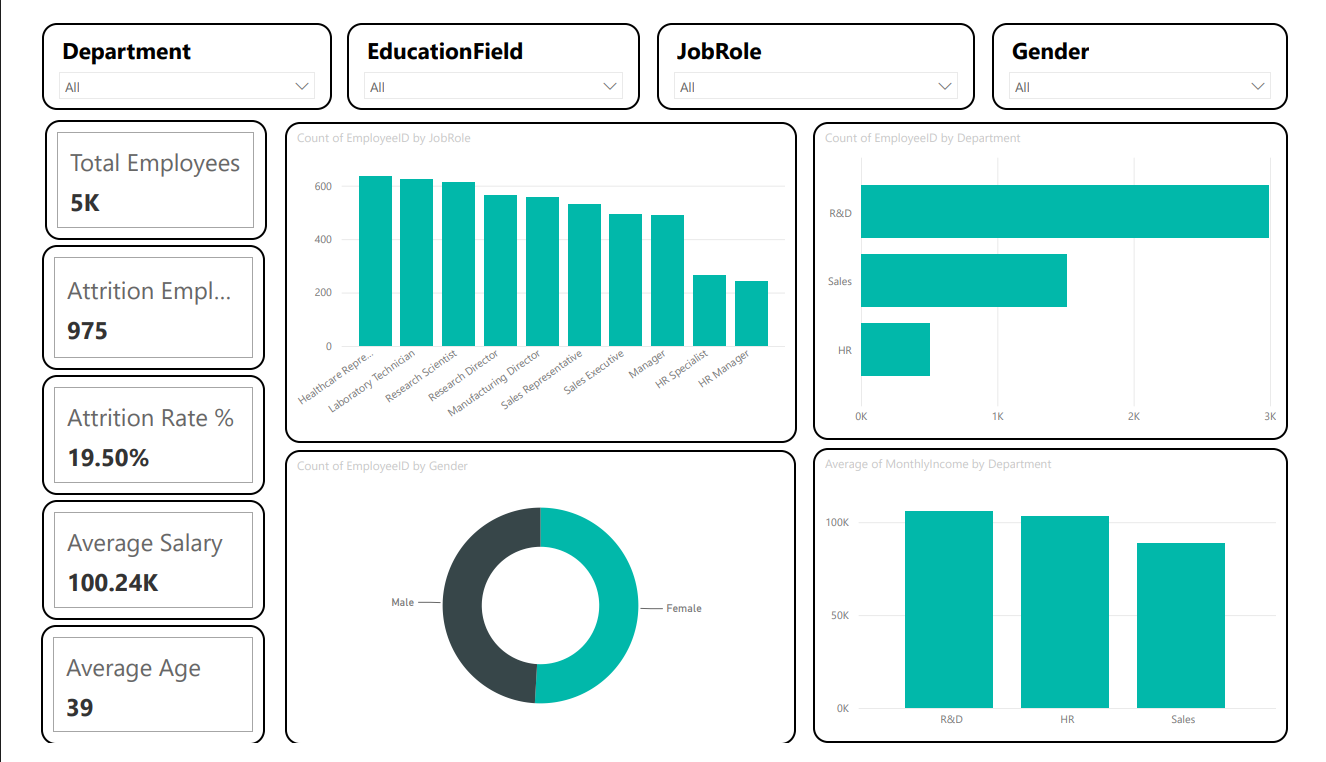

The page's visual inventory and layout, read from the dashboard file:
{"tool":"powerbi","page":{"name":"Page 1","canvas":[1280,720],"ordinal":0},"visuals":[{"type":"cardVisual","fields":{"Data":["HR.Total Employees"]},"box":[19.9,97.1,221.7,120],"z":0},{"type":"cardVisual","fields":{"Data":["HR.Attrition Employees"]},"box":[16.5,222.1,223.3,125],"z":1000},{"type":"cardVisual","fields":{"Data":["HR.Attrition Rate %"]},"box":[16.5,352.1,223.3,120],"z":2000},{"type":"cardVisual","fields":{"Data":["HR.Average Salary"]},"box":[16.5,477.1,223.3,120],"z":3000},{"type":"cardVisual","fields":{"Data":["HR.Average Age"]},"box":[15.8,602.3,224.6,119.5],"z":4000},{"type":"clusteredBarChart","fields":{"Category":["HR.Department"],"Y":["CountNonNull(HR.EmployeeID)"]},"box":[788.2,98.8,475,318.3],"z":5000},{"type":"donutChart","fields":{"Category":["HR.Gender"],"Y":["CountNonNull(HR.EmployeeID)"]},"box":[260.3,426.6,510.8,295.2],"z":6000},{"type":"columnChart","fields":{"Category":["HR.JobRole"],"Y":["CountNonNull(HR.EmployeeID)"]},"box":[259.9,98.8,511.7,321.7],"z":7000},{"type":"clusteredColumnChart","fields":{"Category":["HR.Department"],"Y":["Avg(HR.MonthlyIncome)"]},"box":[788.2,425.4,475,295],"z":8000},{"type":"slicer","fields":{"Values":["HR.Department"]},"box":[16.5,0.4,290,86.7],"z":8001},{"type":"slicer","fields":{"Values":["HR.EducationField"]},"box":[321.5,0.4,293.3,86.7],"z":8002},{"type":"slicer","fields":{"Values":["HR.JobRole"]},"box":[631.5,0.4,318.3,86.7],"z":8003},{"type":"slicer","fields":{"Values":["HR.Gender"]},"box":[966.5,0.4,296.7,86.7],"z":8004}]}

Visuals, with their boxes in screenshot pixels (x1, y1, x2, y2), scaled from the page's 1280x720 canvas onto the 1326x762 screenshot:
cardVisual - HR.Total Employees: box(21, 103, 250, 230)
cardVisual - HR.Attrition Employees: box(17, 235, 248, 367)
cardVisual - HR.Attrition Rate %: box(17, 373, 248, 500)
cardVisual - HR.Average Salary: box(17, 505, 248, 632)
cardVisual - HR.Average Age: box(16, 637, 249, 761)
clusteredBarChart - HR.Department x CountNonNull(HR.EmployeeID): box(817, 105, 1309, 441)
donutChart - HR.Gender x CountNonNull(HR.EmployeeID): box(270, 451, 799, 761)
columnChart - HR.JobRole x CountNonNull(HR.EmployeeID): box(269, 105, 799, 445)
clusteredColumnChart - HR.Department x Avg(HR.MonthlyIncome): box(817, 450, 1309, 761)
slicer - HR.Department: box(17, 0, 318, 92)
slicer - HR.EducationField: box(333, 0, 637, 92)
slicer - HR.JobRole: box(654, 0, 984, 92)
slicer - HR.Gender: box(1001, 0, 1309, 92)
